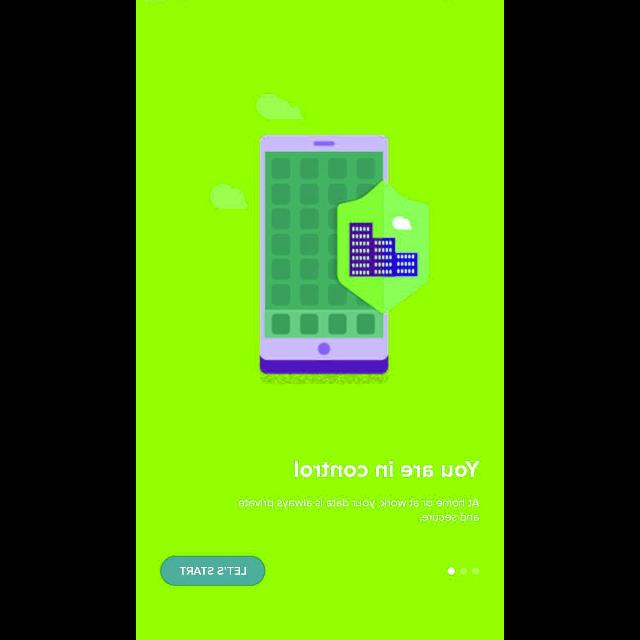image: (209, 92, 431, 384)
pageindicator: (446, 566, 480, 576)
text: (238, 498, 480, 522), (294, 459, 481, 478)
textbutton: (160, 556, 264, 586)
